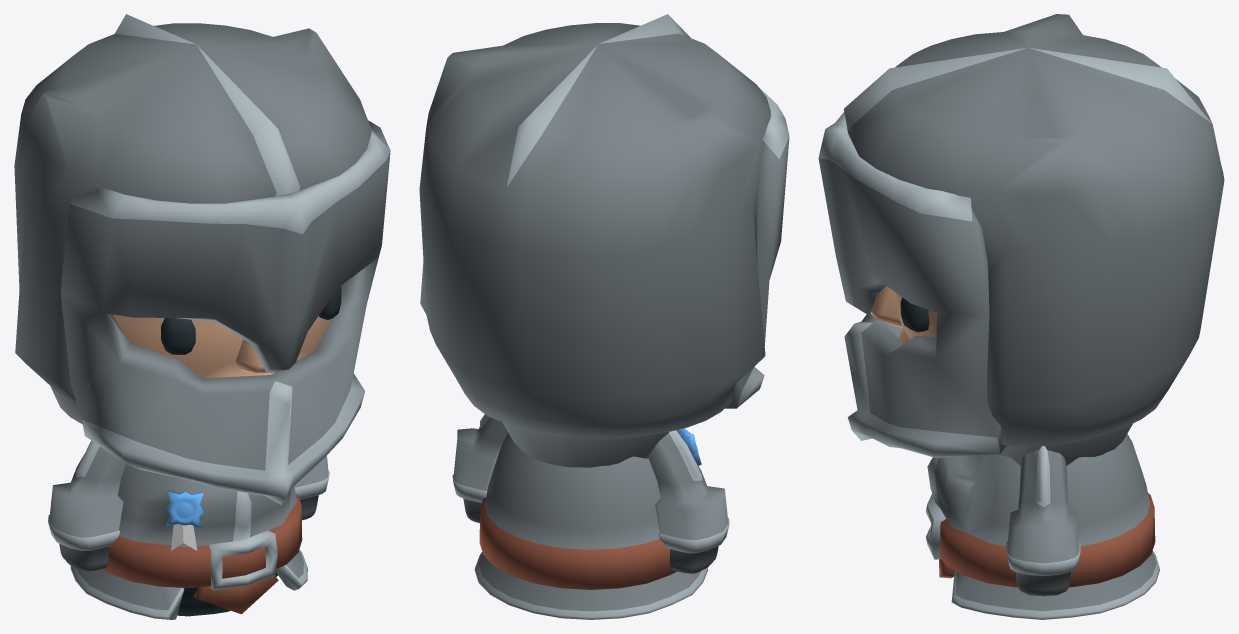
File: character_knight.gltf
3 renders of one model, left to right at view 1: azimuth 30°, elevation 25°; view 2: azimuth 150°, elevation 25°; view 3: azimuth 270°, elevation 25°, orthographic.
Parts seen in each view (by area): view 1: character_knightHelmetVisor, character_knightHelmet, character_knightBody, character_knightArmRight, character_knightHead, character_knightArmLeft; view 2: character_knightHelmet, character_knightBody, character_knightArmRight, character_knightHelmetVisor, character_knightArmLeft; view 3: character_knightHelmet, character_knightHelmetVisor, character_knightBody, character_knightArmLeft, character_knightHead.
Boxes of the visible parts, x1,y1,x2,y2 form: character_knightHelmetVisor: [60, 120, 390, 504]; character_knightHelmet: [14, 14, 371, 424]; character_knightBody: [70, 464, 307, 619]; character_knightArmRight: [48, 440, 126, 571]; character_knightHead: [112, 286, 341, 378]; character_knightArmLeft: [294, 455, 329, 520]; character_knightHelmet: [419, 14, 770, 439]; character_knightBody: [474, 422, 707, 619]; character_knightArmRight: [648, 430, 729, 573]; character_knightHelmetVisor: [725, 87, 789, 408]; character_knightArmLeft: [452, 414, 508, 522]; character_knightHelmet: [844, 14, 1224, 446]; character_knightHelmetVisor: [818, 112, 1006, 457]; character_knightBody: [925, 423, 1159, 619]; character_knightArmLeft: [1006, 446, 1080, 596]; character_knightHead: [870, 286, 936, 343].
Bounding box in the file's own units: 1.21 × 1.95 × 1.33.
